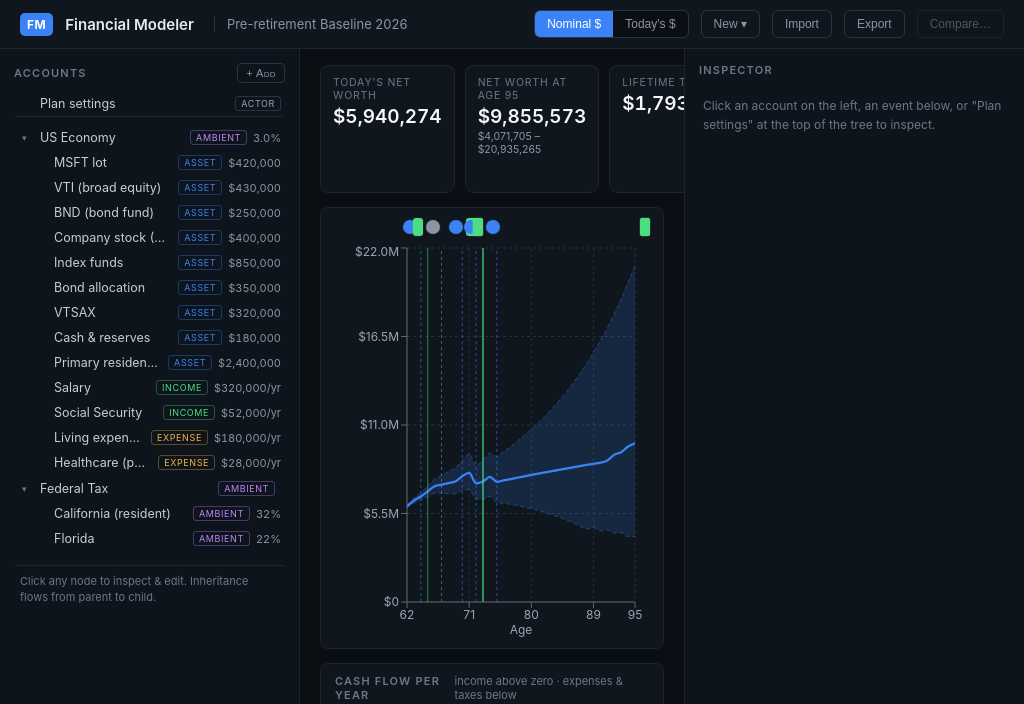
Test: P3.0 — filing_status select on the actor › changing the Filing status select updates actor.filing_status
Click the text "Plan settings" at (78, 104), box left=40, top=96, right=116, bottom=111
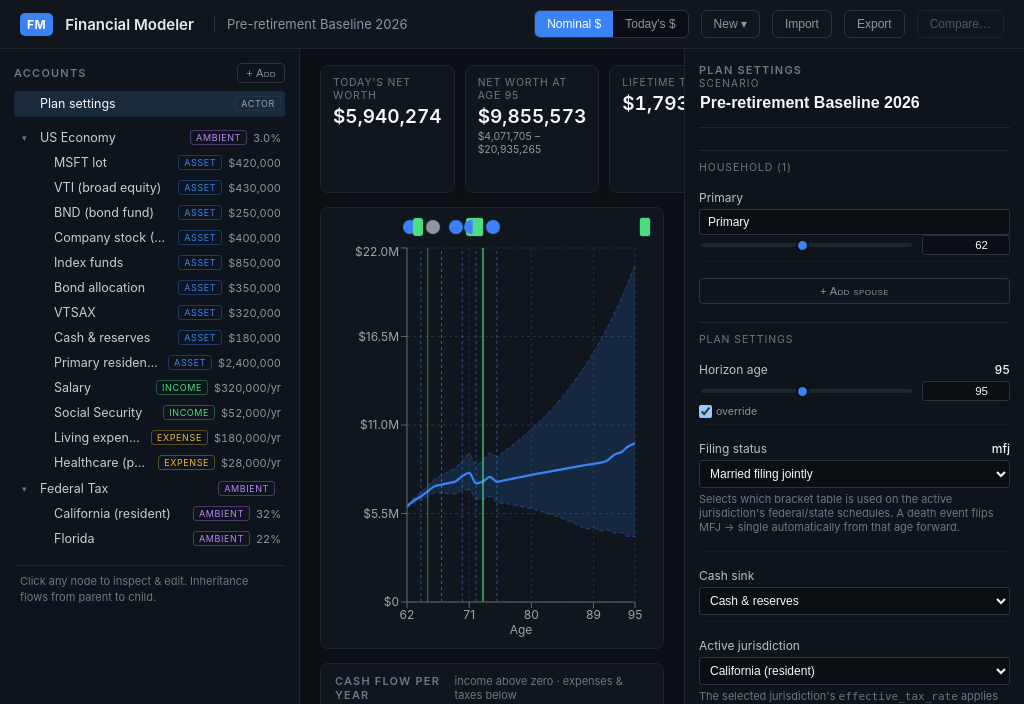
Result: the dropdown named "filing status" shows "Married filing jointly"
Select "Single" in the dropdown named "filing status" at (854, 474), box left=699, top=460, right=1010, bottom=488
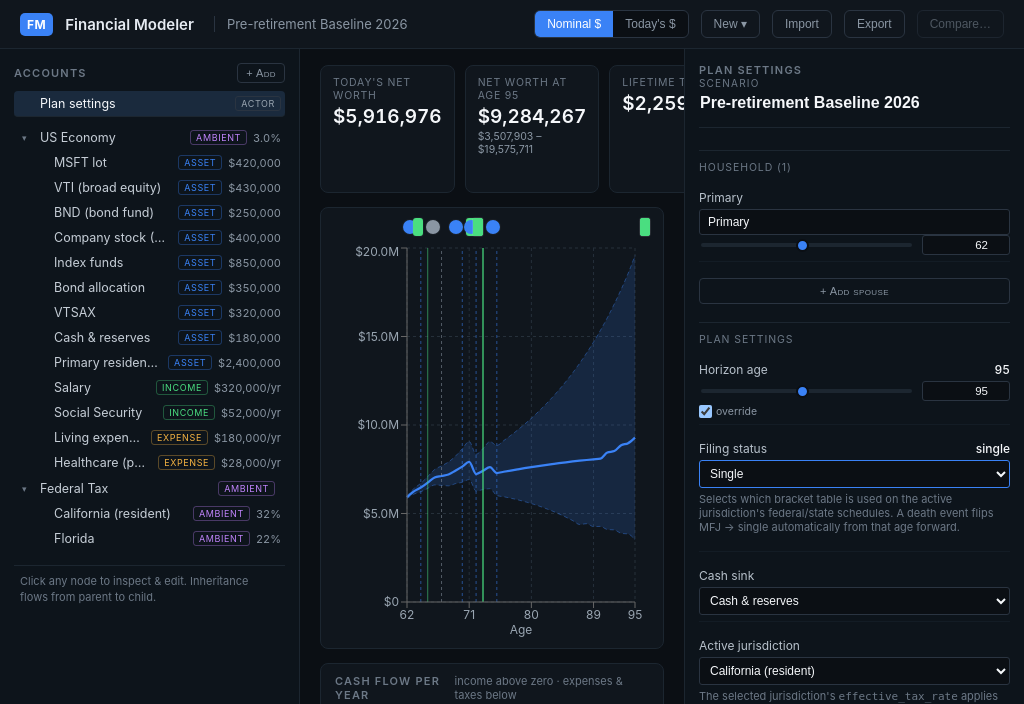
Result: the text "single" is shown at left=976, top=441, right=1010, bottom=456
